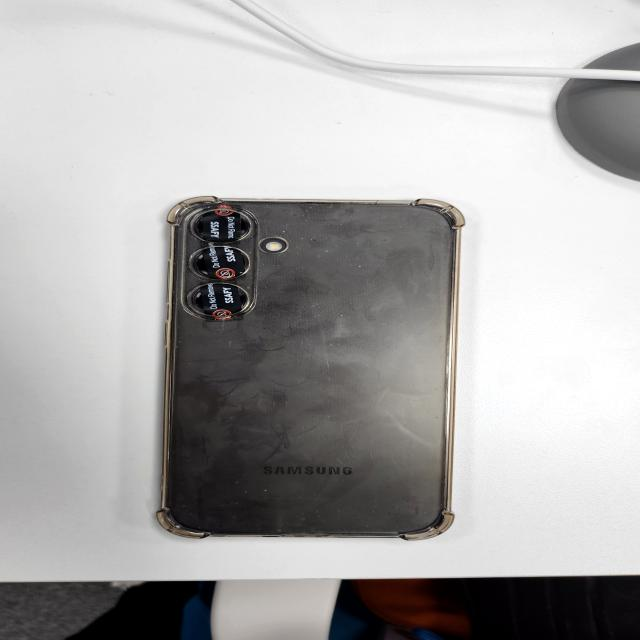phone: (162, 196, 455, 546)
sticker: (200, 284, 242, 321), (201, 248, 245, 280), (202, 210, 240, 243)
